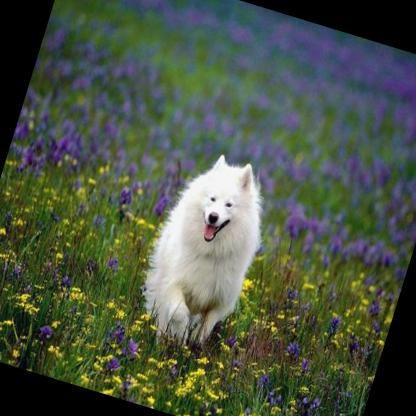Samoyed: (127, 142, 280, 352)
